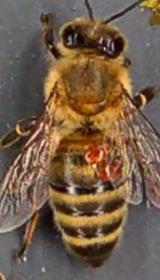varroa_mite: (92, 164, 122, 188), (79, 139, 103, 162)
